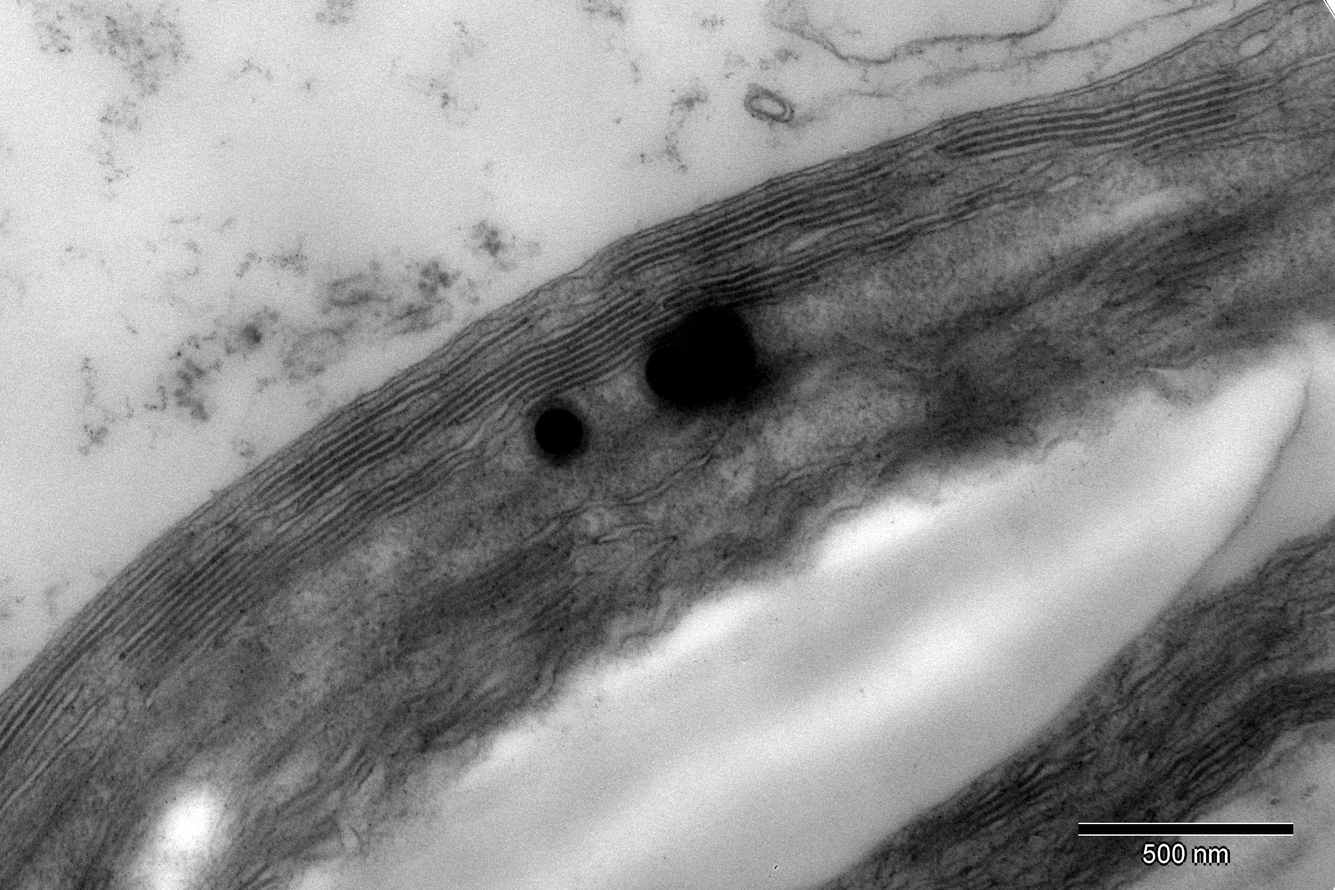granum: (1, 514, 303, 771), (266, 428, 501, 594), (430, 283, 678, 431), (1076, 188, 1283, 357), (651, 217, 920, 336), (940, 64, 1250, 161), (392, 523, 580, 667), (1142, 667, 1335, 806), (905, 735, 1090, 869), (243, 404, 451, 523), (869, 361, 1035, 484), (614, 186, 796, 279), (784, 147, 920, 237), (57, 787, 160, 890), (939, 155, 1067, 231), (1108, 706, 1168, 762)
